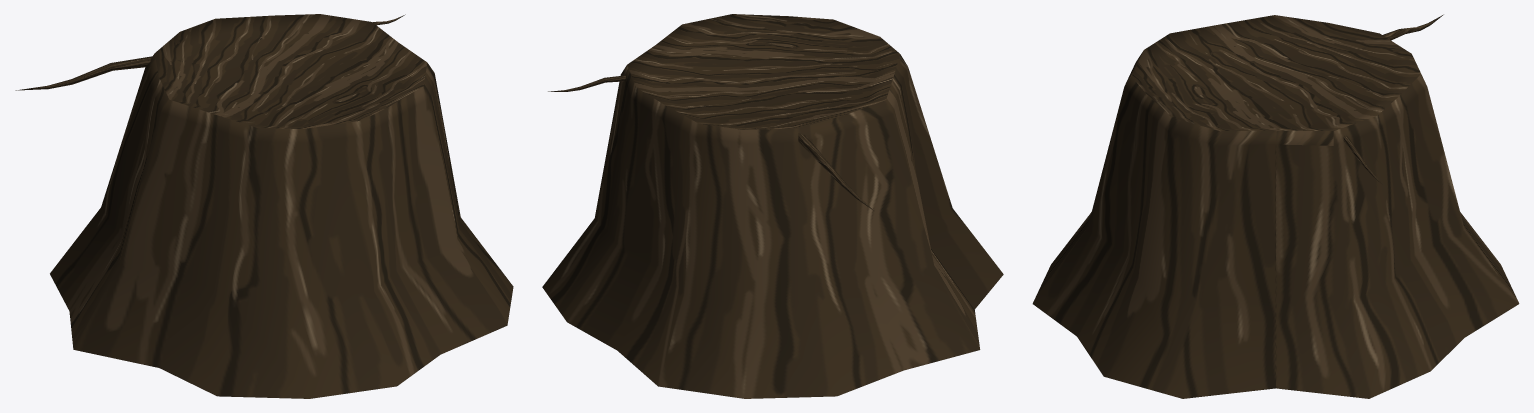
Rendered from SpruceTree1_TreeStump_v1.fbx.
3 views of the same model, side by side, from view 1: azimuth 30°, elevation 25°; view 2: azimuth 150°, elevation 25°; view 3: azimuth 270°, elevation 25° (orthographic). The views are drawn at different scales.
Parts seen in each view (by area): view 1: Treestump.001; view 2: Treestump.001; view 3: Treestump.001.
Part boxes in pixels (left/top/right/bottom): Treestump.001: left=15, top=14, right=513, bottom=398; Treestump.001: left=542, top=14, right=1003, bottom=398; Treestump.001: left=1032, top=14, right=1519, bottom=398.
Size of the model in its own units: 250 by 138 by 260.
